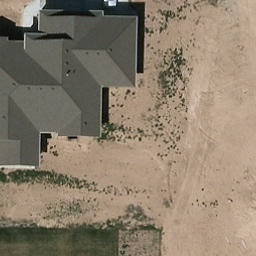car: (102, 0, 119, 8)
